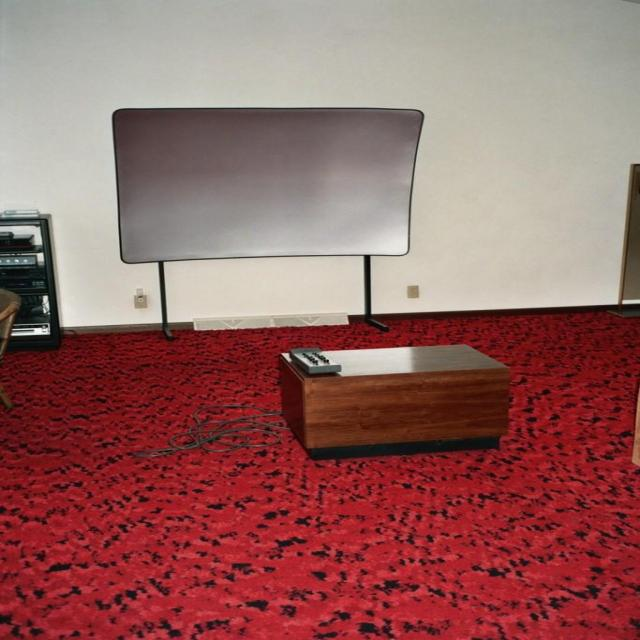table: (284, 328, 512, 469)
